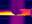Hotspot: (0, 11, 15, 15)
